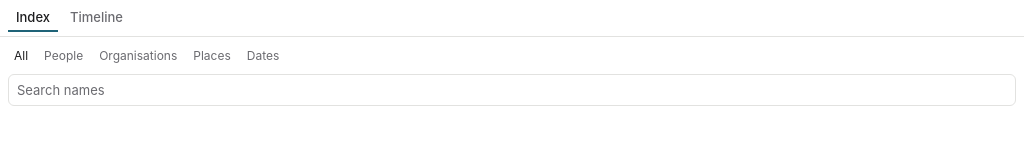
Scenario: ConnectionsPanel › timeline groups by year
Click the button "Timeline" at (96, 18), box left=62, top=4, right=131, bottom=32
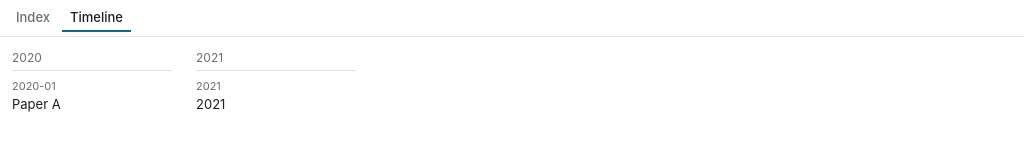
Expected: the text "2020" is shown, left=12, top=49, right=172, bottom=71
Expected: the 1st text "2021" is shown, left=196, top=49, right=356, bottom=71
Expected: the button "2020-01 Paper A" is shown, left=12, top=79, right=172, bottom=114
